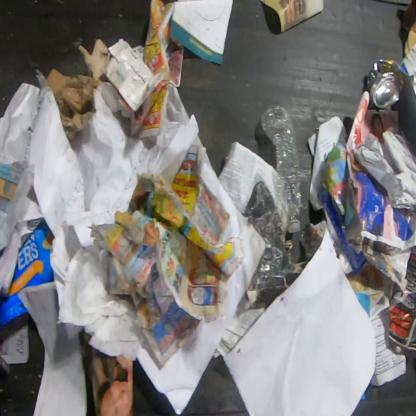cardboard: (242, 181, 309, 306), (44, 37, 111, 141), (0, 219, 55, 331), (107, 37, 166, 113)
metal: (364, 57, 408, 110)
rigid_plastic: (259, 104, 303, 235)
soft_plastic: (0, 164, 35, 252)
